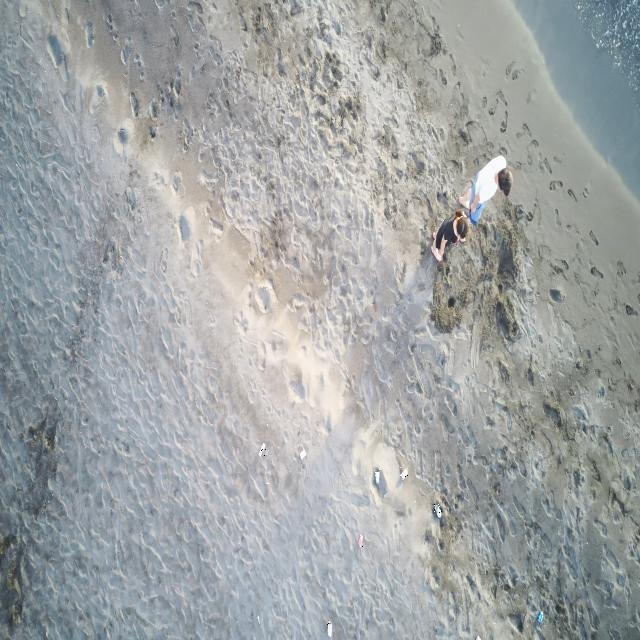Garbage: (373, 467, 387, 496), (535, 609, 543, 624), (432, 503, 440, 517), (373, 469, 380, 484), (259, 442, 266, 455), (299, 447, 306, 460), (356, 535, 363, 547), (400, 467, 407, 479), (327, 620, 332, 636), (256, 615, 259, 624), (475, 635, 480, 639)
